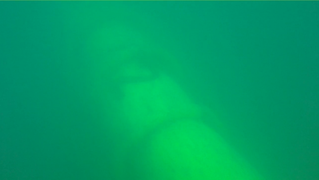2: (107, 59, 159, 100)
pipe: (62, 1, 267, 179)
